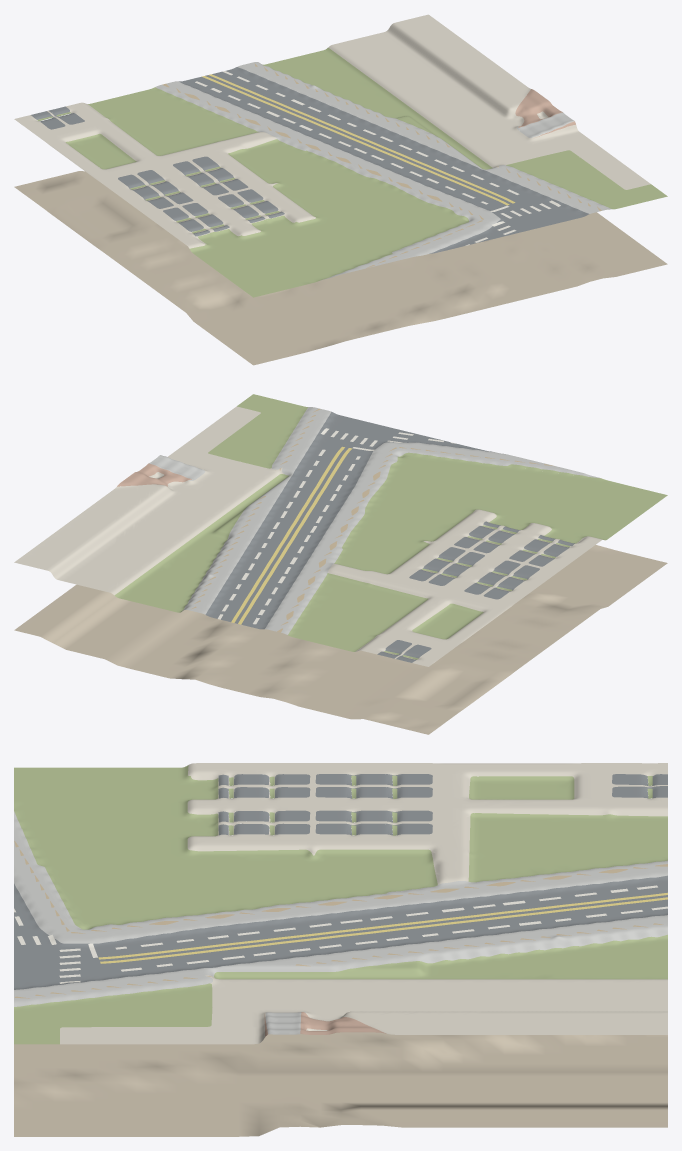
3 renders of one model, top to bottom at view 1: azimuth 30°, elevation 25°; view 2: azimuth 150°, elevation 25°; view 3: azimuth 270°, elevation 25°, orthographic. The views are drawn at different scales.
Visible parts, largest first — view 1: s_0_-4__soil, s_0_-4__grass, s_0_-4__paving, s_0_-4__asphalt, s_0_-4__stone_paving, s_0_-4__yellow_marking, s_0_-4__white_marking, s_0_-4__timber_deck, s_0_-4__brick_paving; view 2: s_0_-4__soil, s_0_-4__grass, s_0_-4__paving, s_0_-4__asphalt, s_0_-4__stone_paving, s_0_-4__yellow_marking, s_0_-4__white_marking, s_0_-4__timber_deck, s_0_-4__brick_paving; view 3: s_0_-4__grass, s_0_-4__soil, s_0_-4__paving, s_0_-4__asphalt, s_0_-4__stone_paving, s_0_-4__yellow_marking, s_0_-4__white_marking, s_0_-4__timber_deck, s_0_-4__brick_paving.
Boxes of the visible parts, x1,y1,x2,y2 form: s_0_-4__soil: (14, 168, 667, 365); s_0_-4__grass: (37, 47, 667, 297); s_0_-4__paving: (14, 14, 650, 248); s_0_-4__asphalt: (31, 67, 589, 253); s_0_-4__stone_paving: (155, 62, 611, 280); s_0_-4__yellow_marking: (202, 74, 515, 205); s_0_-4__white_marking: (195, 71, 560, 245); s_0_-4__timber_deck: (162, 63, 601, 268); s_0_-4__brick_paving: (515, 89, 575, 137); s_0_-4__soil: (14, 526, 667, 734); s_0_-4__grass: (114, 394, 667, 659); s_0_-4__paving: (14, 406, 602, 666); s_0_-4__asphalt: (205, 411, 574, 662); s_0_-4__stone_paving: (149, 407, 600, 634); s_0_-4__yellow_marking: (231, 446, 352, 624); s_0_-4__white_marking: (217, 428, 455, 624); s_0_-4__timber_deck: (191, 408, 554, 632); s_0_-4__brick_paving: (117, 463, 191, 486); s_0_-4__grass: (14, 765, 667, 1044); s_0_-4__soil: (14, 946, 667, 1136); s_0_-4__paving: (60, 763, 667, 1044); s_0_-4__asphalt: (14, 774, 667, 989); s_0_-4__stone_paving: (14, 811, 667, 1034); s_0_-4__yellow_marking: (98, 892, 667, 963); s_0_-4__white_marking: (14, 885, 667, 983); s_0_-4__timber_deck: (14, 841, 667, 998); s_0_-4__brick_paving: (264, 1012, 386, 1037).
Size of the model in its own units: 128 by 23.54 by 128.
